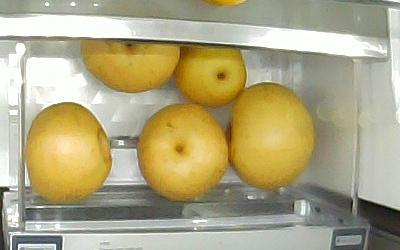pear: (229, 82, 317, 190), (136, 104, 229, 204), (24, 102, 112, 205), (79, 40, 180, 94), (174, 45, 247, 106)
